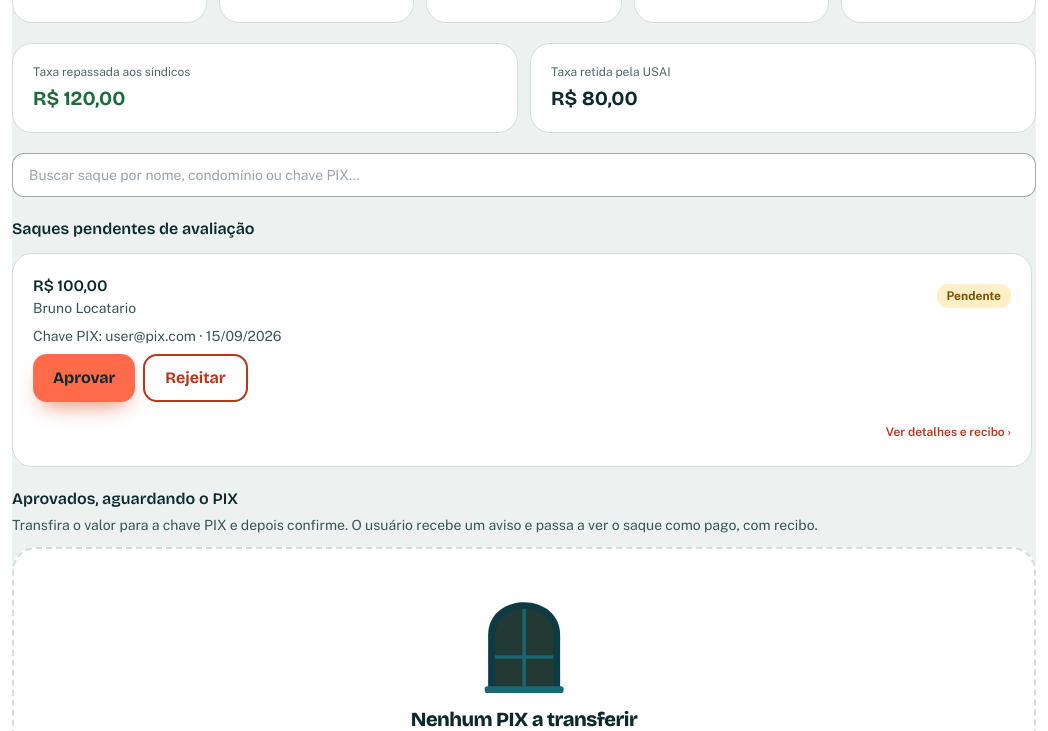
Test: AdminPage: aba Financeiro › aprovar tira o saque dos pendentes e leva pra "aguardando o PIX" (ainda não é pago)
The image size is (1048, 731).
(page scrolled)
Expected: the text "user@pix.com" is shown, 105,328 -> 196,344
Step 1. Click the button "Aprovar" → (84, 378), box 33,354 -> 135,402
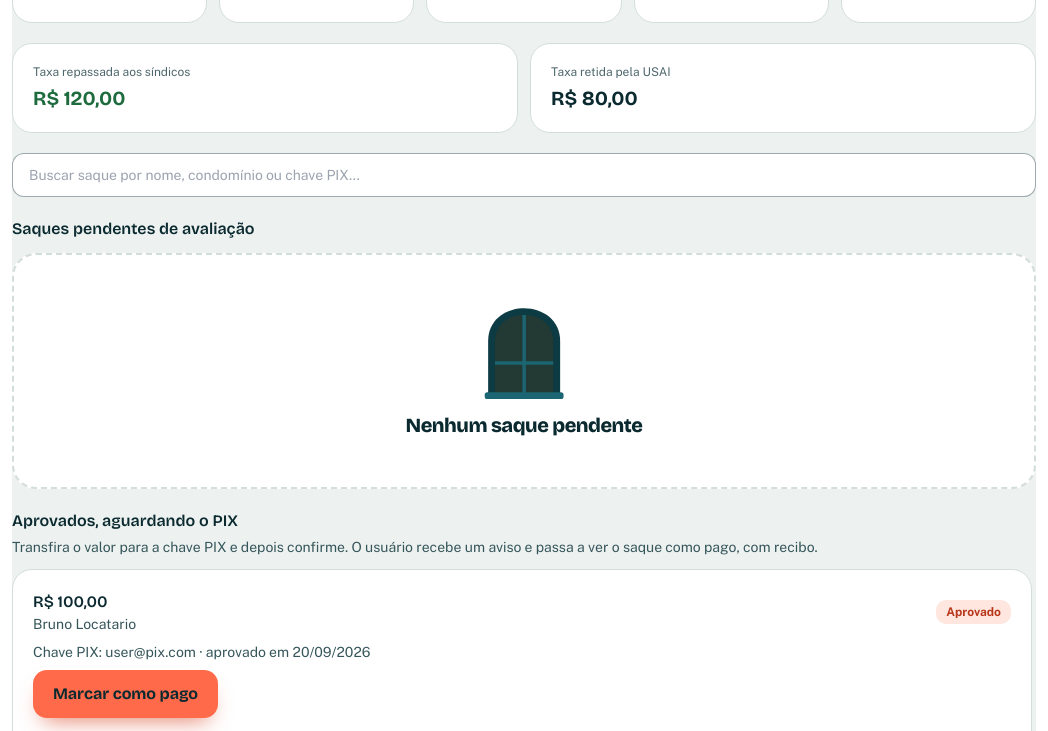
Expected: the text "Bruno Locatario" is shown, 33,614 -> 136,634
Now the text "Nenhum saque pendente" is shown, box 406,411 -> 642,439
Now the button "Marcar como pago" is shown, box 33,670 -> 218,718
